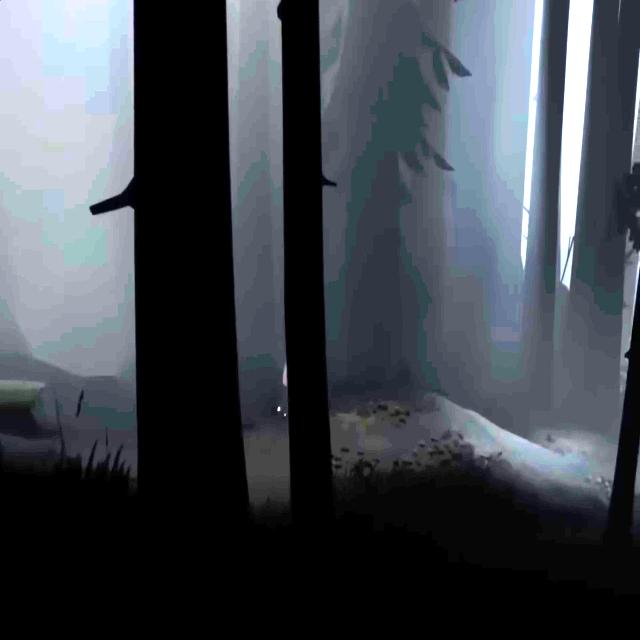boy: (276, 361, 288, 421)
